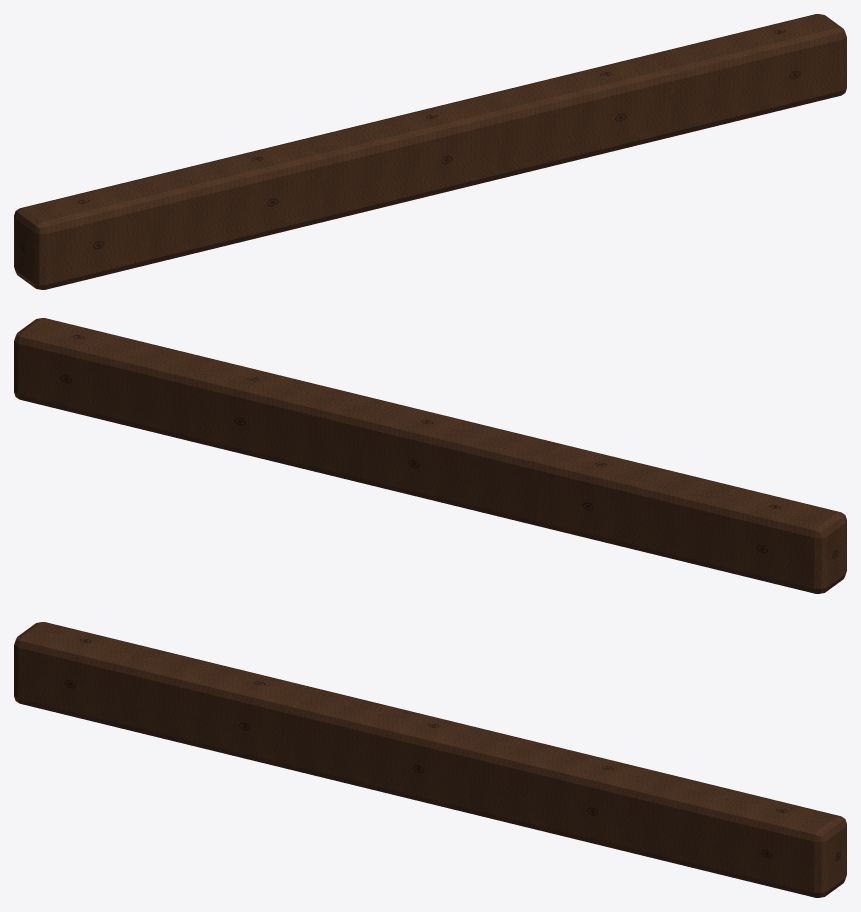
File: cabin_beam.glb
3 views of the same model, one above another, from view 1: azimuth 30°, elevation 25°; view 2: azimuth 150°, elevation 25°; view 3: azimuth 330°, elevation 25° (orthographic).
Parts seen in each view (by area): view 1: beam; view 2: beam; view 3: beam.
Boxes of the visible parts, bbox=[...] form: beam: bbox=[14, 14, 846, 289]; beam: bbox=[14, 318, 846, 593]; beam: bbox=[14, 622, 846, 897].
Bounding box in the file's own units: 2 × 0.16 × 0.12.
1 material, 1 textured.
